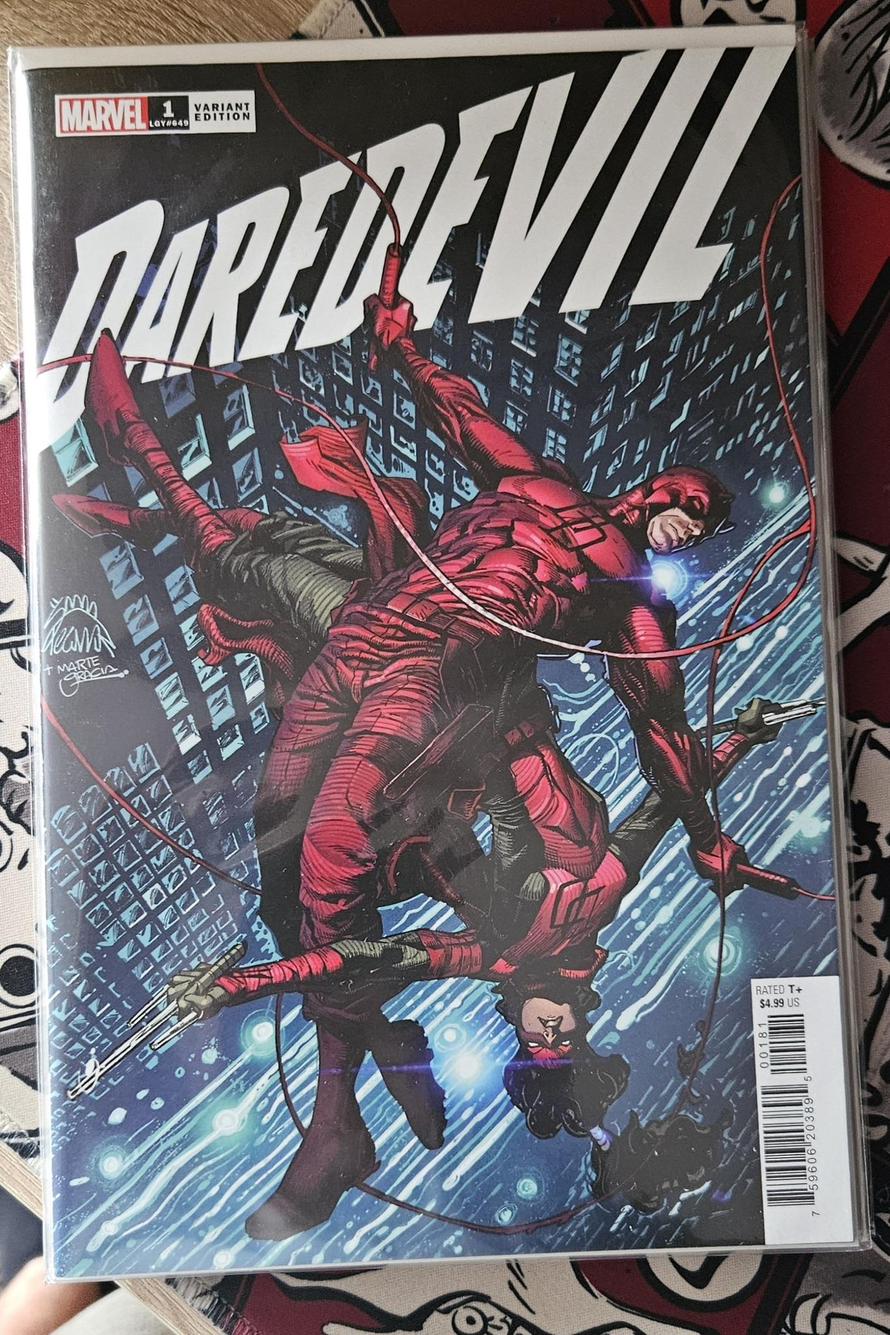comic: (6, 24, 862, 1277)
